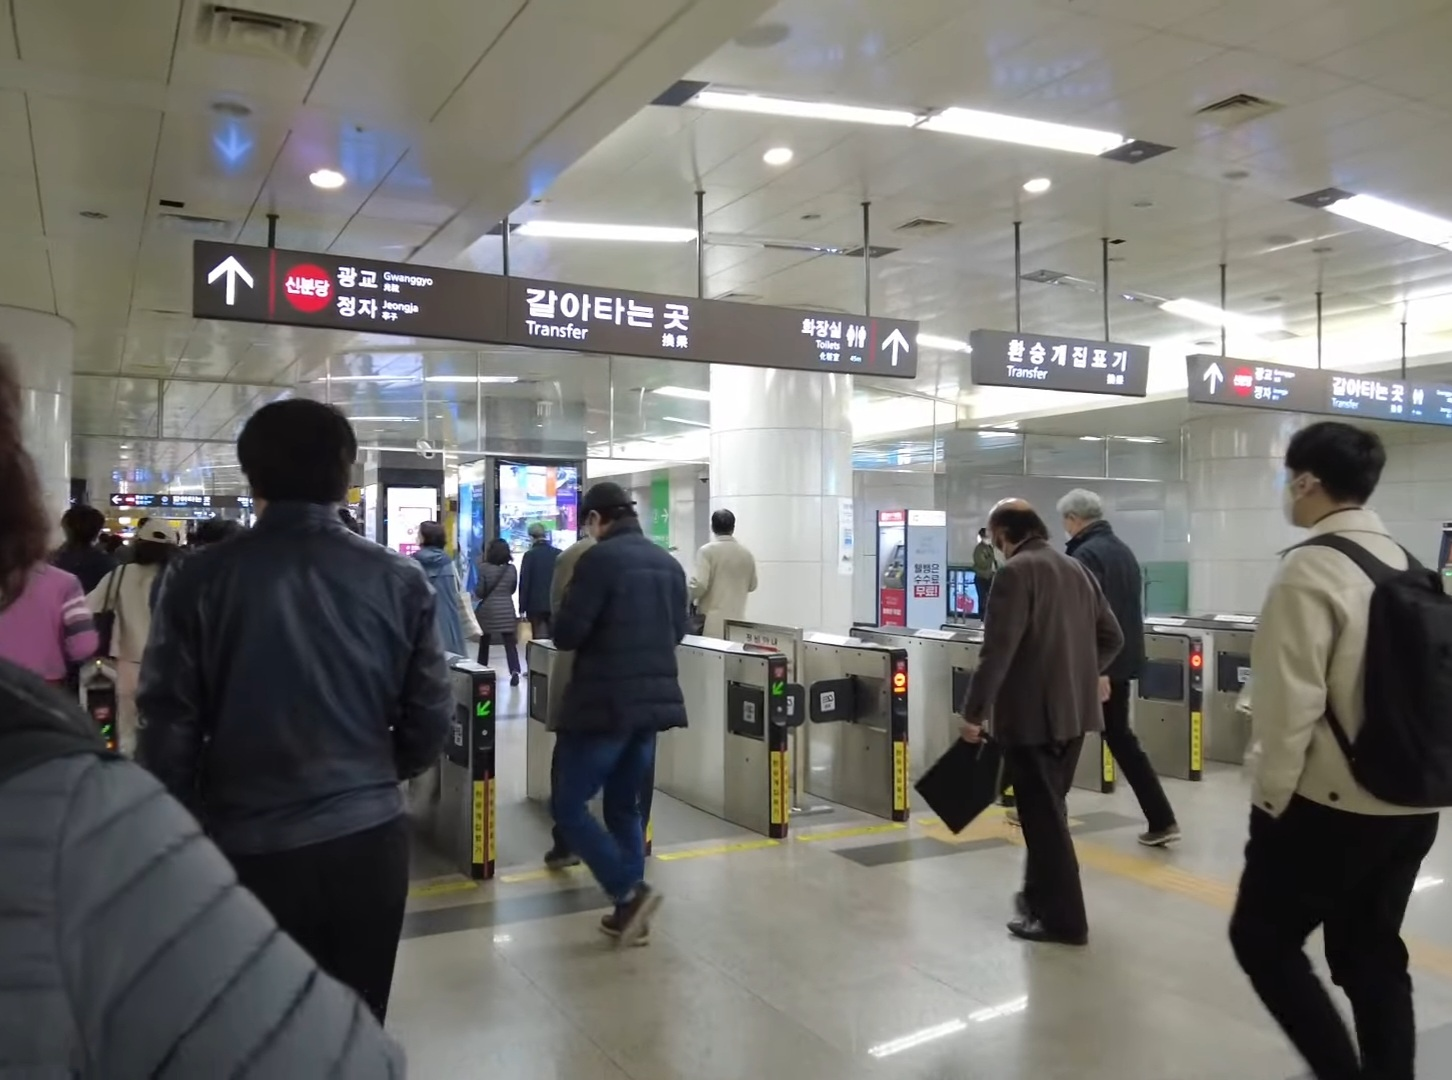signBoard: (185, 220, 925, 389)
